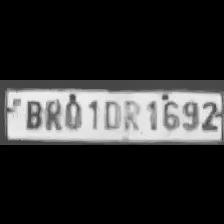0: (61, 96, 83, 130)
1: (142, 96, 160, 132), (84, 96, 100, 130)
2: (198, 97, 220, 131)
6: (158, 96, 178, 130)
9: (179, 96, 199, 130)
B: (21, 97, 43, 129)
D: (100, 96, 120, 130)
R: (121, 96, 143, 132), (42, 96, 62, 130)
